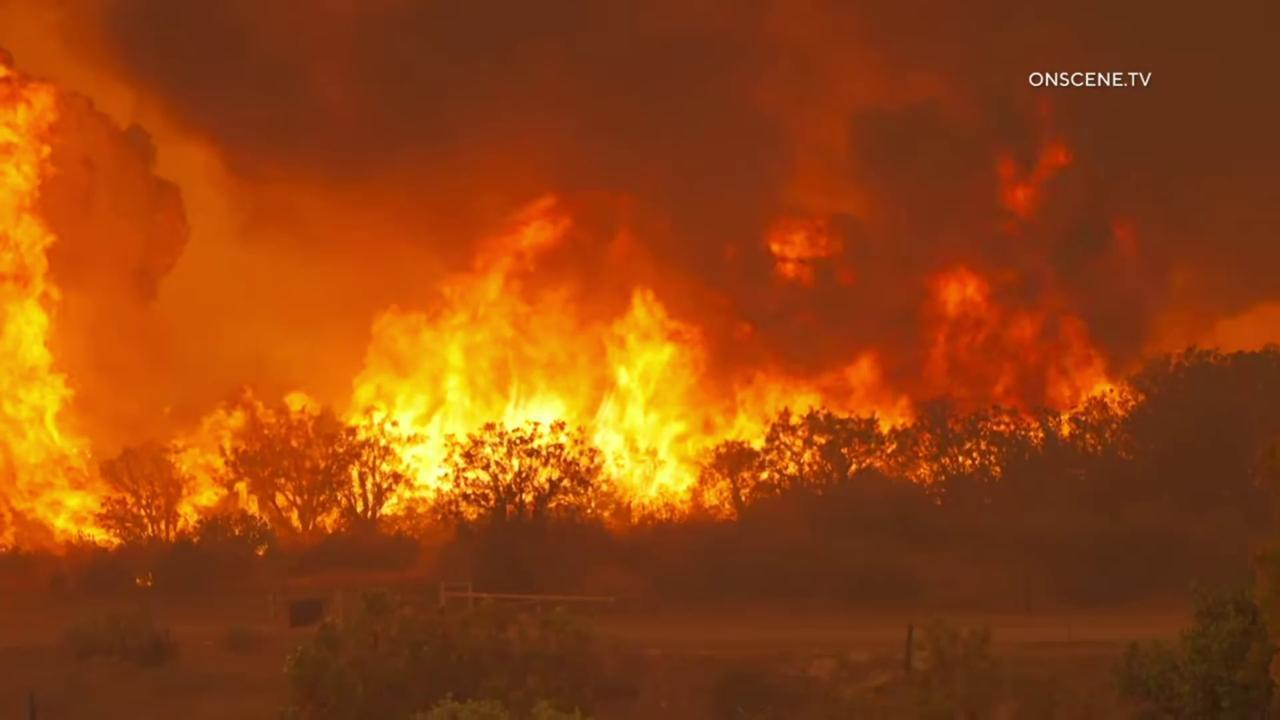fire: (160, 124, 1147, 551), (0, 46, 148, 550)
smoke: (0, 0, 1280, 720)
